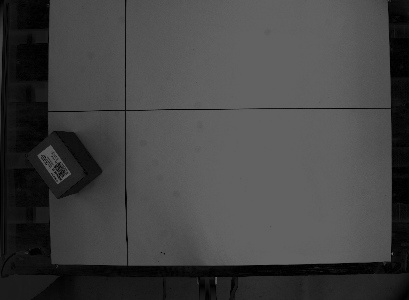b5: (22, 127, 103, 201)
